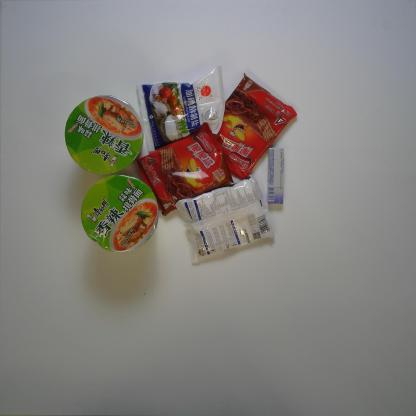Candy: (268, 148, 284, 204)
Dessert: (209, 71, 297, 181), (136, 122, 235, 216)
Instant Noodles: (64, 95, 144, 175), (80, 175, 158, 253)
Seasoner: (175, 173, 276, 265), (135, 66, 226, 153)
